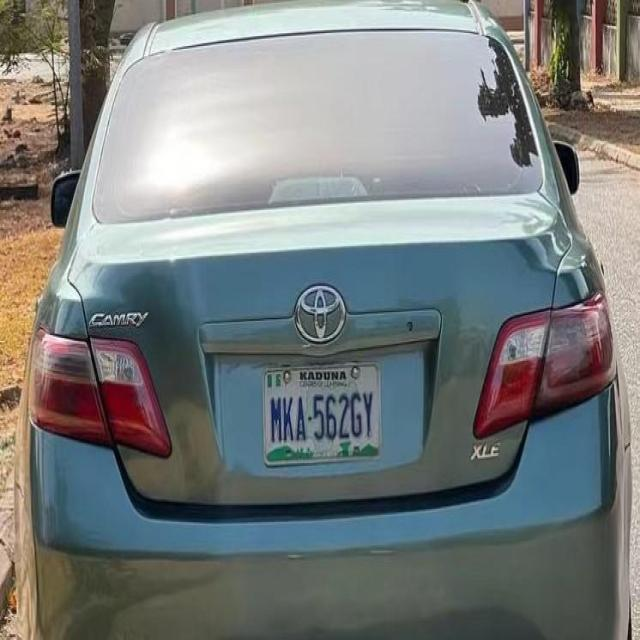Nigerian License Plate - vdataset benjamin-daria: (261, 352, 385, 466)
